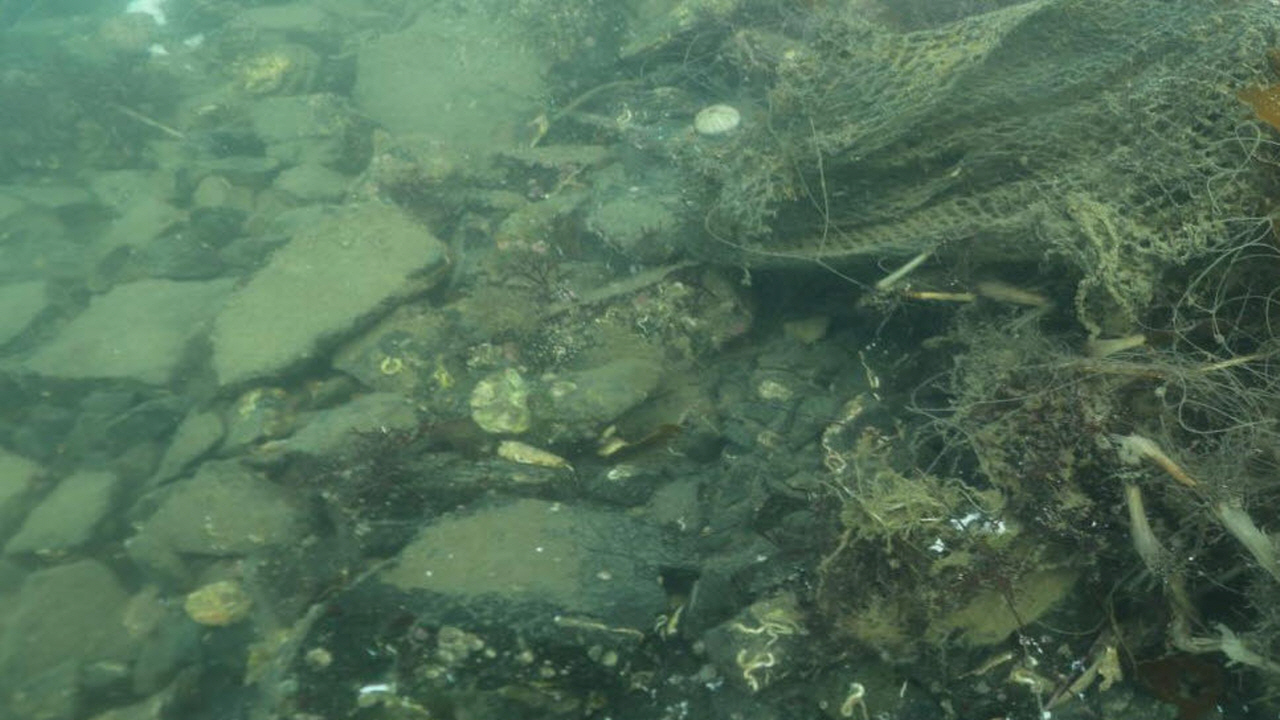fish net: (711, 0, 1280, 260)
